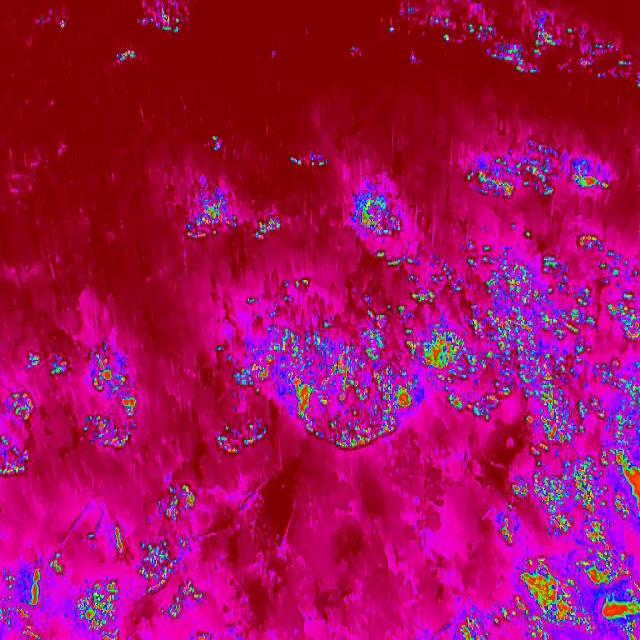fire: (204, 226, 640, 462), (454, 450, 640, 640), (0, 520, 208, 640), (386, 5, 640, 97), (0, 344, 138, 484), (460, 141, 612, 201), (175, 179, 294, 252), (336, 182, 409, 248), (148, 481, 203, 527), (131, 6, 186, 39), (284, 150, 336, 172), (114, 42, 138, 68), (206, 128, 228, 156)
